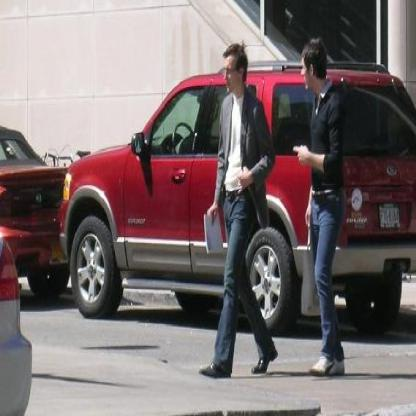person: (187, 41, 291, 382), (286, 33, 359, 379)
